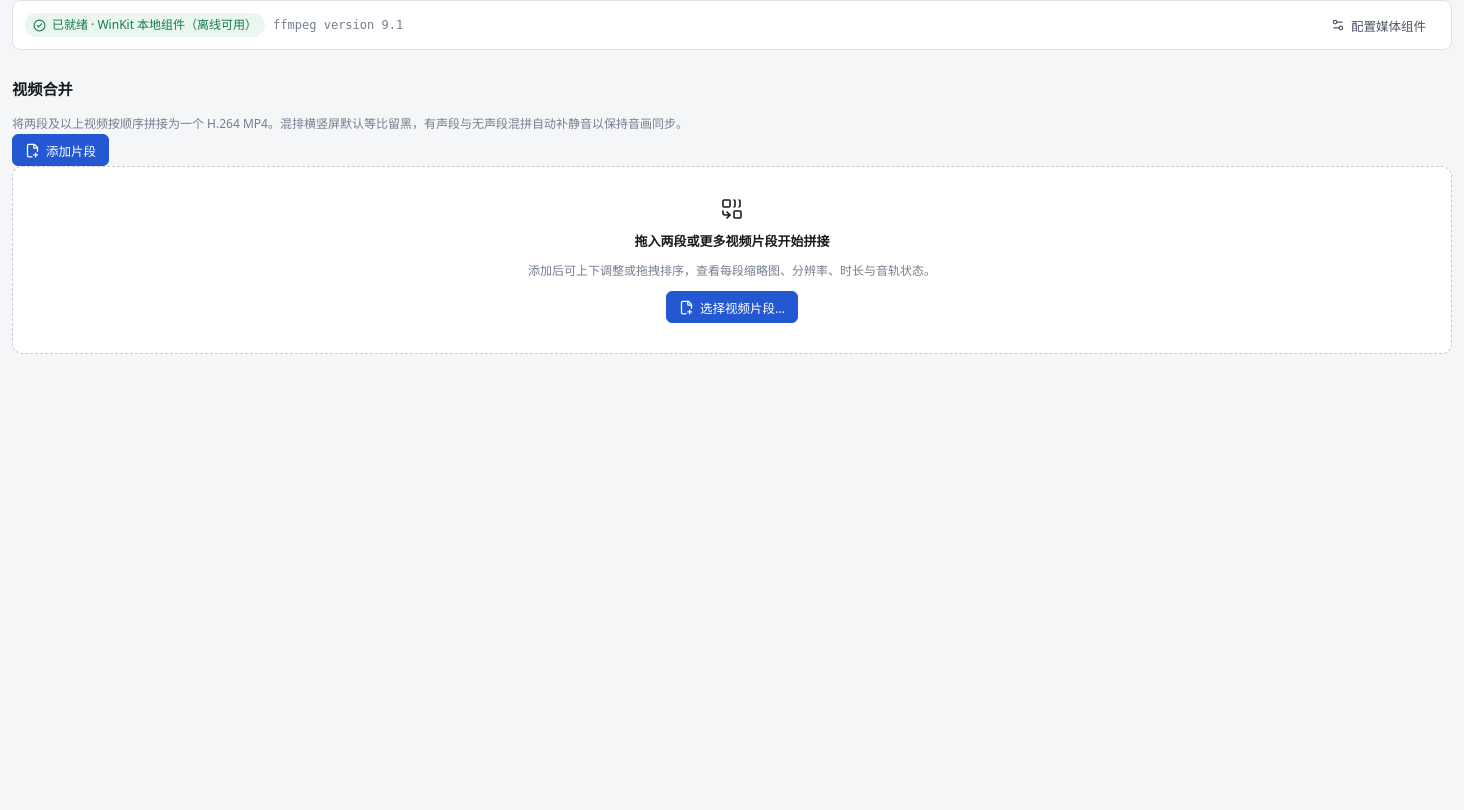
Test: VideoMergeWorkspace (V12) › reorders clips, notices mixed audio/silent segments, and invokes mergeVideos in reordered sequence
Click the button "选择视频片段…" at (732, 307), box [666,291,798,323]
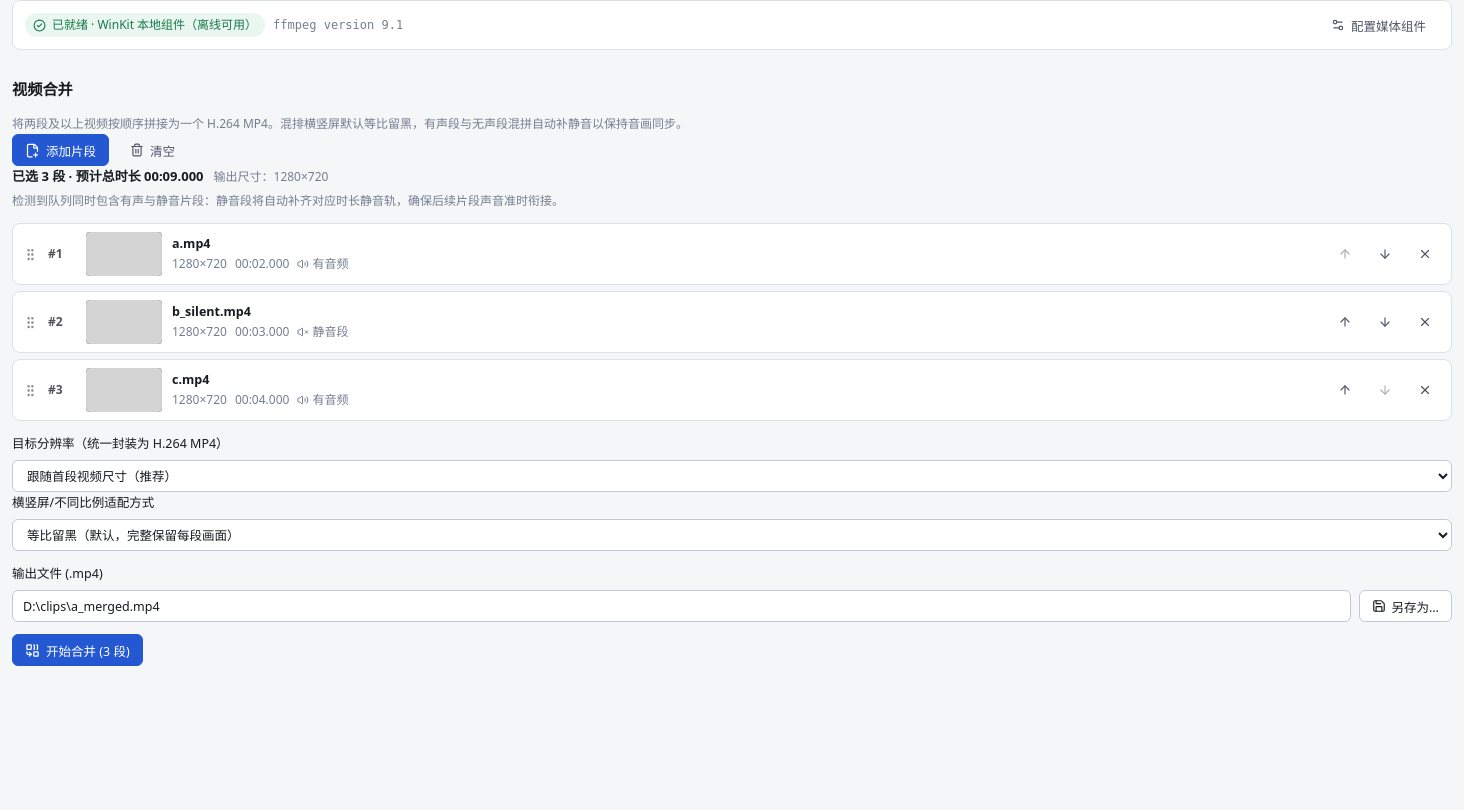
Result: the text "检测到队列同时包含有声与静音片段：静音段将自动补齐对应时长静音轨，确保后续片段声音准时衔接。" is shown at [12,192,564,209]
Result: the text "已选 3 段 · 预计总时长 00:09.000" is shown at [12,167,204,185]
Click the button named "上移 c.mp4" at (1345, 390), box [1329,374,1361,406]
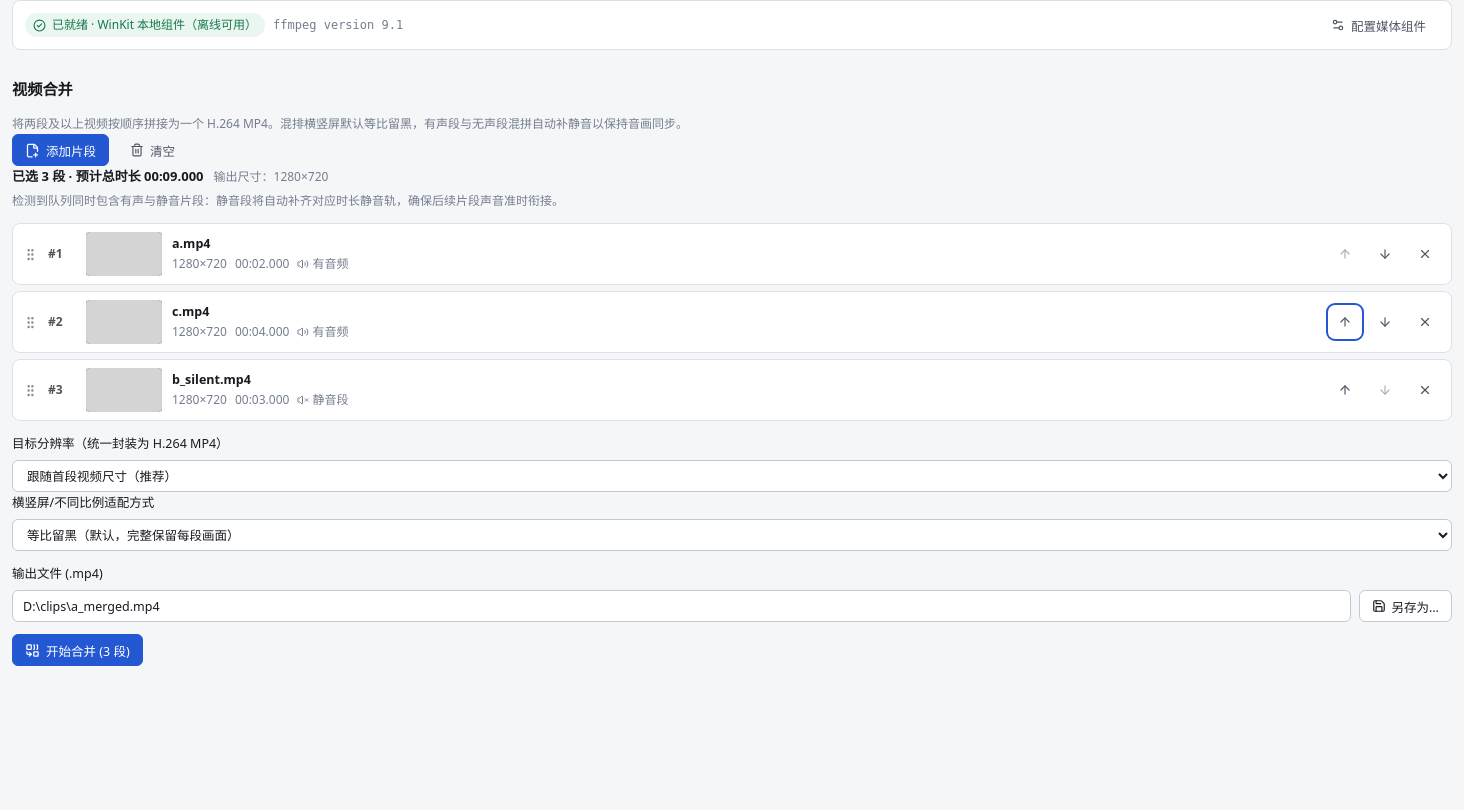
Click the button named "上移 c.mp4" at (1345, 322), box [1329,306,1361,338]
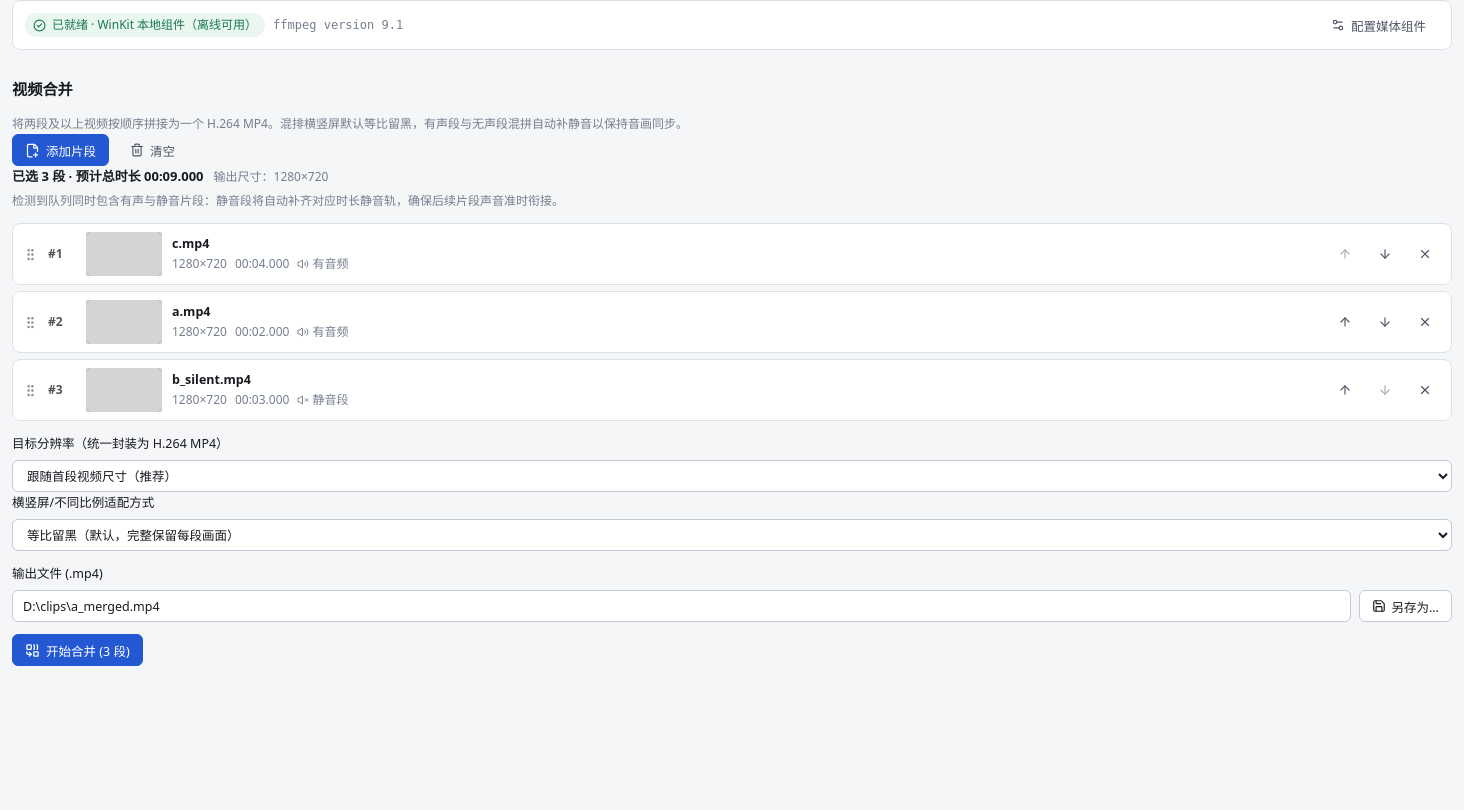
Click the button "开始合并 (3 段)" at (77, 650), box [12,634,143,666]
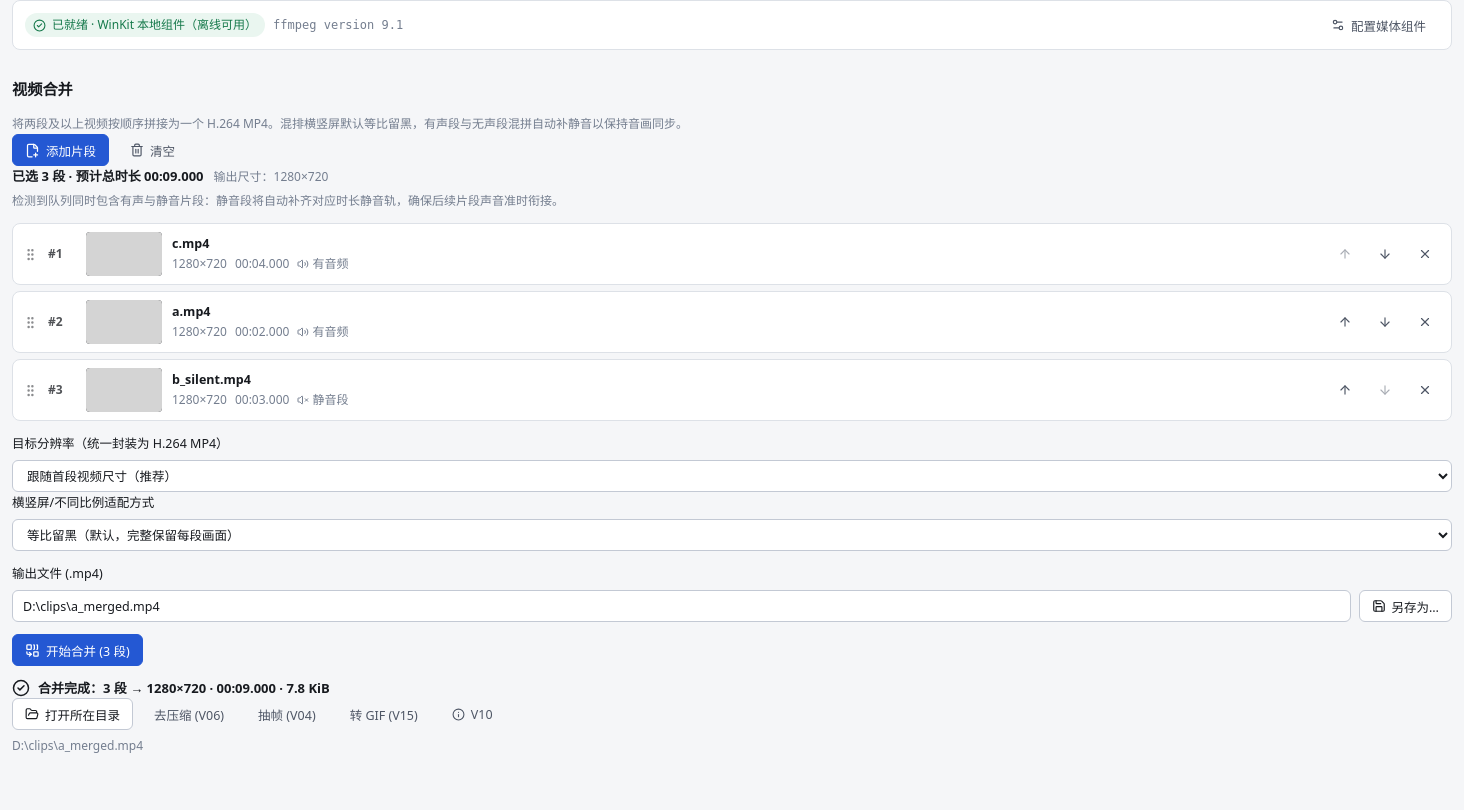
Result: the text "合并完成：3 段 → 1280×720 · 00:09.000 · 7.8 KiB" is shown at [38,678,330,698]
